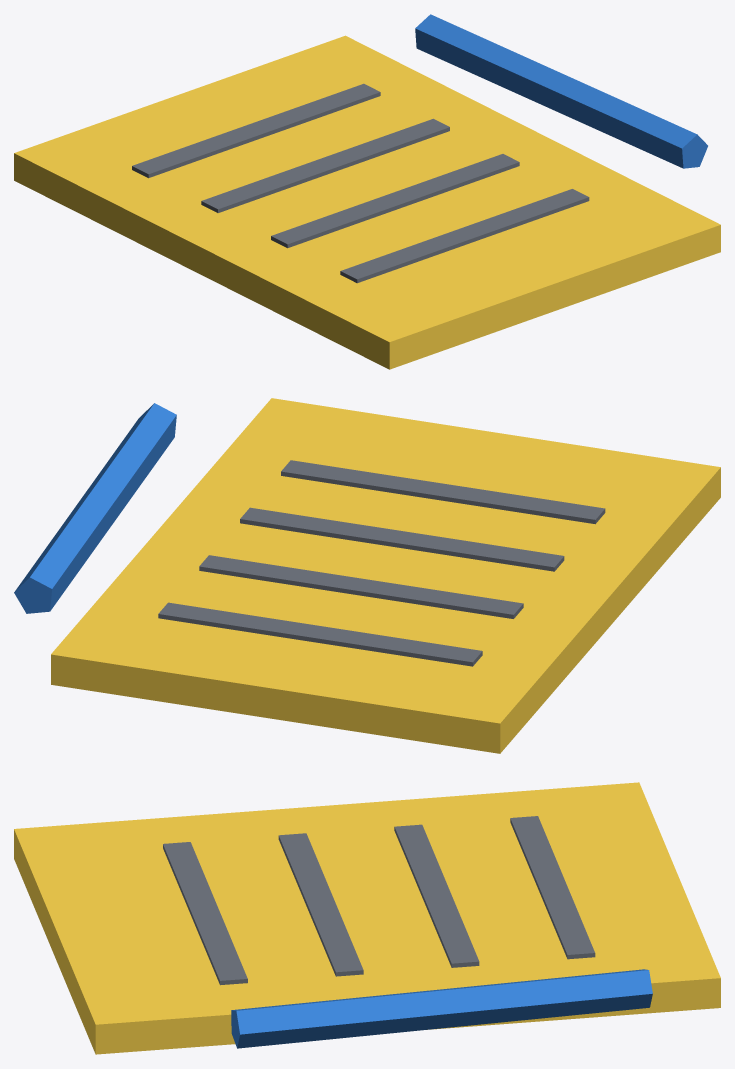
File: station_special_ausstattung_3_1.glb
3 renders of one model, top to bottom at view 1: azimuth 30°, elevation 25°; view 2: azimuth 150°, elevation 25°; view 3: azimuth 270°, elevation 25°, orthographic. The views are drawn at different scales.
Parts seen in each view (by area): view 1: station_special_ausstattung_3_1; view 2: station_special_ausstattung_3_1; view 3: station_special_ausstattung_3_1.
Boxes of the visible parts, x1,y1,x2,y2 form: station_special_ausstattung_3_1: (14, 14, 720, 369); station_special_ausstattung_3_1: (14, 398, 720, 753); station_special_ausstattung_3_1: (14, 782, 720, 1054).
Size of the model in its own units: 0.2726 by 0.0308 by 0.3006.
